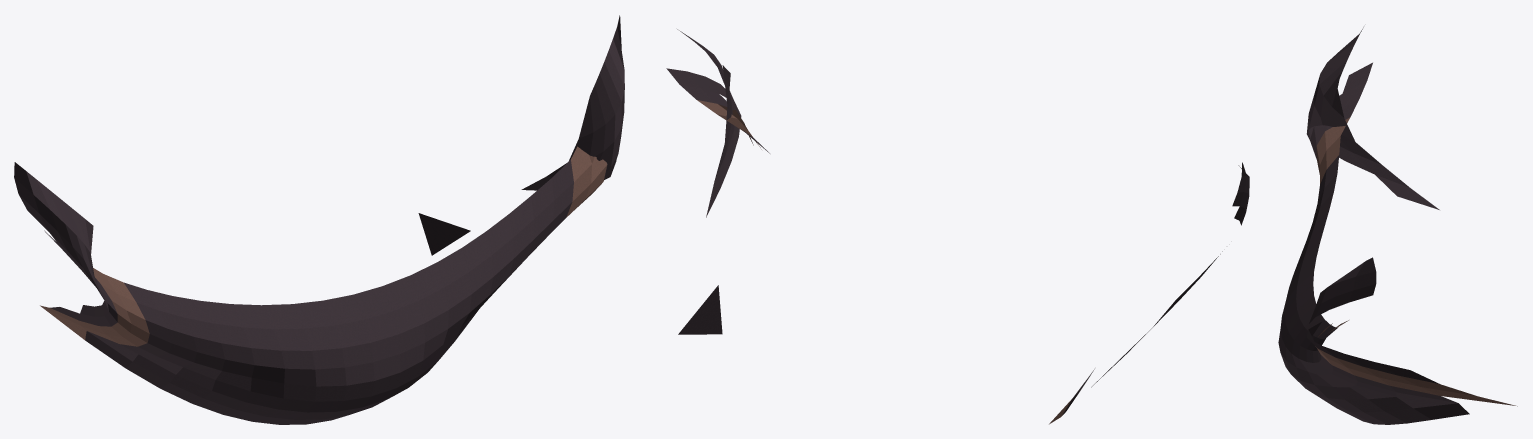
Rendered from facial_full_beard_short.gltf.
The picture shows the model from 3 angles, left to right: view 1: azimuth 30°, elevation 25°; view 2: azimuth 150°, elevation 25°; view 3: azimuth 270°, elevation 25°; orthographic projection. The views are drawn at different scales.
Visible parts, largest first — view 1: Full Beard short; view 2: Full Beard short; view 3: Full Beard short.
Boxes of the visible parts, bbox=[...] form: Full Beard short: bbox=[14, 15, 624, 424]; Full Beard short: bbox=[666, 29, 1249, 424]; Full Beard short: bbox=[1278, 27, 1517, 424].
Bounding box in the file's own units: 0.348 × 0.177 × 0.1451.
Materials: 2 (2 with a texture image).
